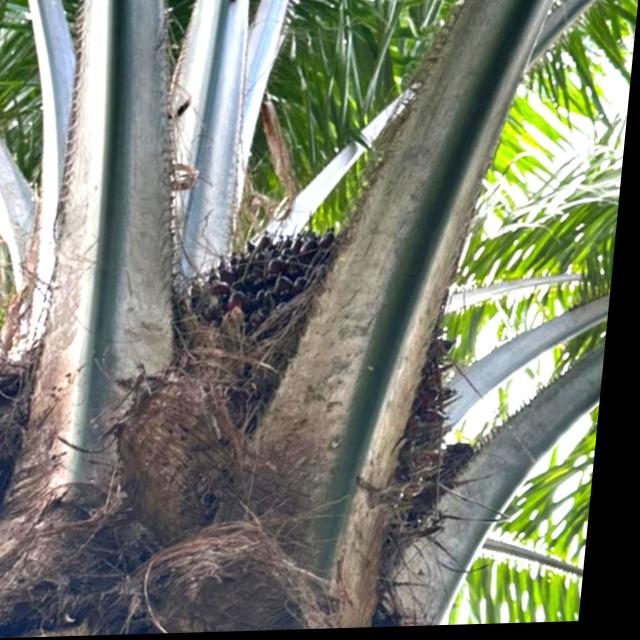ripe: (160, 208, 368, 371)
